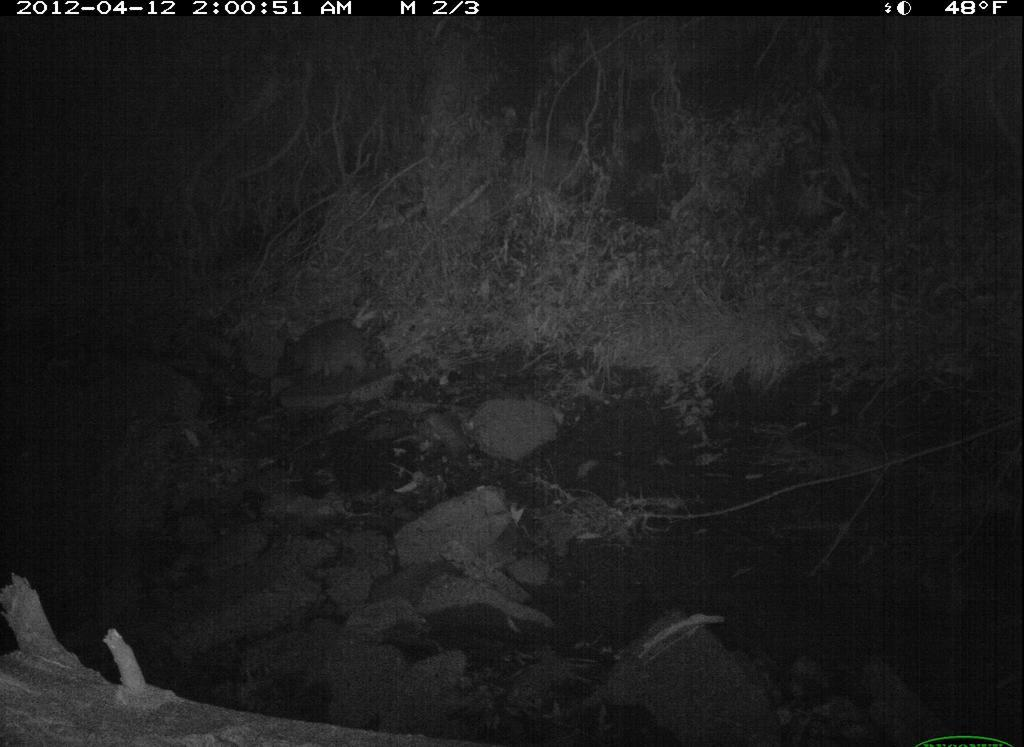raccoon: (280, 308, 382, 396)
